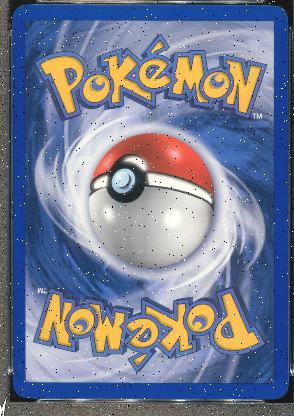Card: (9, 1, 285, 398)
Corner Wear: (281, 386, 287, 396), (279, 8, 286, 16), (18, 4, 22, 8)
Edge Wear: (30, 3, 189, 5)
Scratch: (48, 267, 69, 272), (95, 386, 97, 388)
